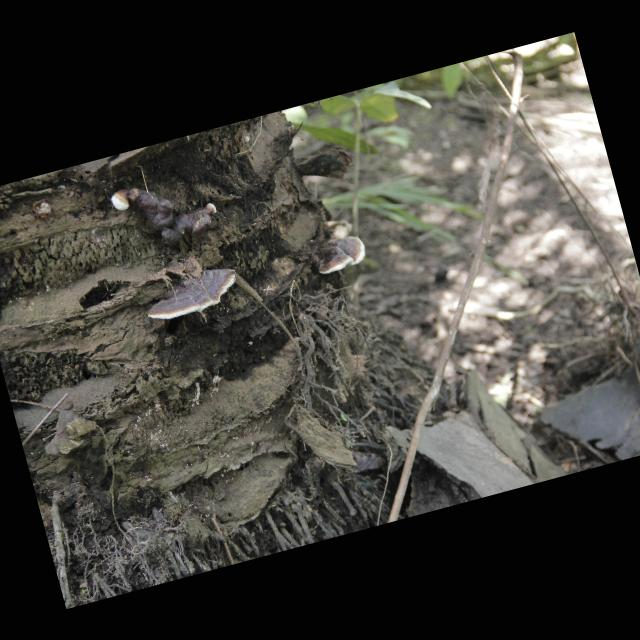ganoderma: (128, 170, 216, 256), (141, 263, 244, 327), (313, 233, 371, 277)
primordium: (110, 188, 133, 214), (204, 202, 219, 218), (245, 136, 252, 144)
